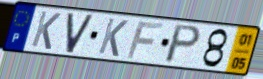8: (201, 27, 230, 69)
F: (125, 20, 166, 60)
K: (96, 16, 130, 59), (29, 9, 63, 52)
P: (162, 23, 204, 65)
V: (64, 11, 96, 55)
